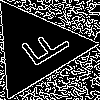F: (11, 23, 73, 75)
